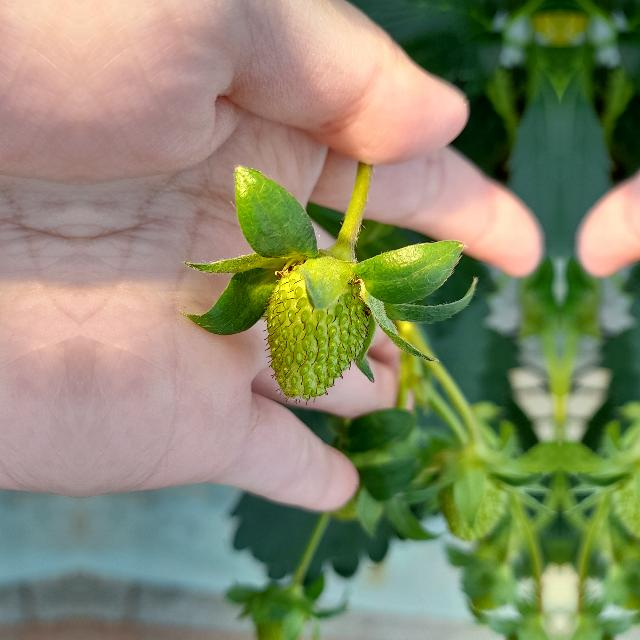Health_25: (260, 264, 372, 406)
